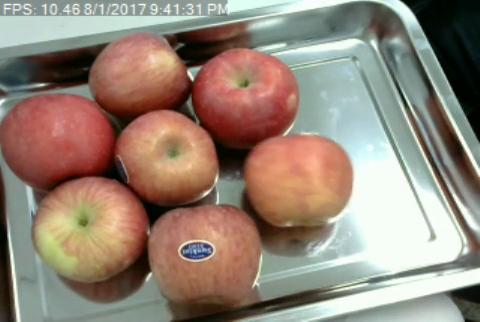apple: (151, 204, 263, 307), (34, 178, 145, 280), (193, 48, 299, 142), (245, 134, 351, 228), (114, 110, 217, 205), (1, 95, 115, 178), (89, 32, 192, 111)
